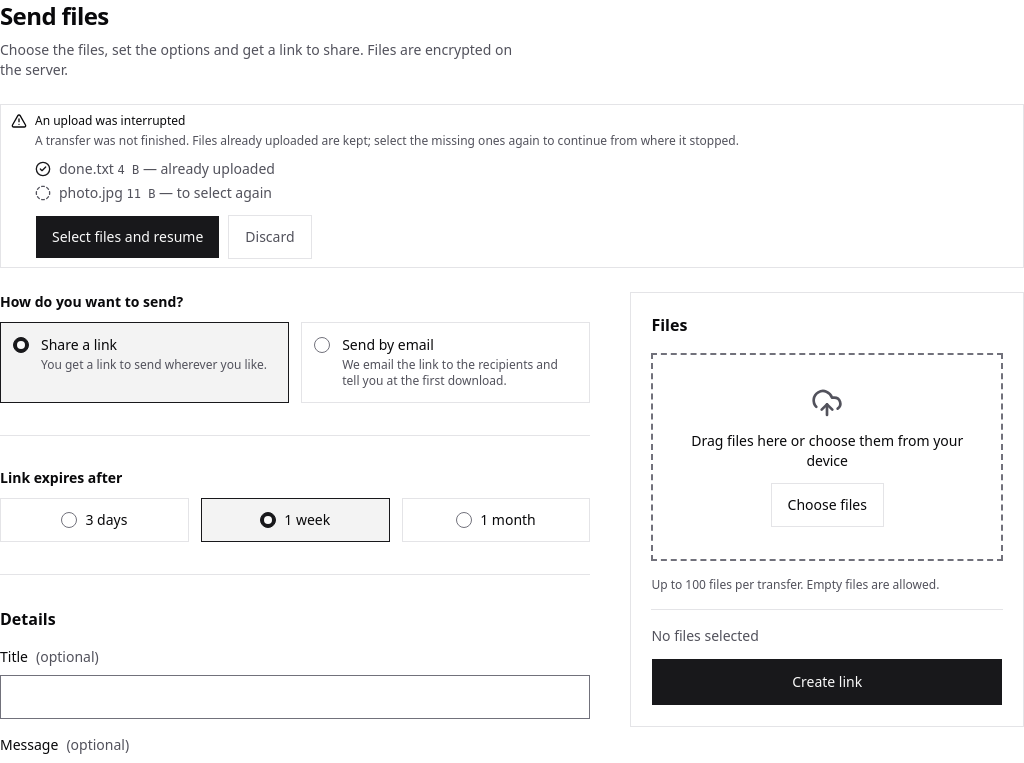
Scenario: NewTransferPage interrupted upload › discards the draft after confirmation
This screenshot has width=1024, height=763.
Expected: the button "Choose files" is shown, [770,482,884,526]
Expected: the text "An upload was interrupted" is shown, [35,112,185,129]
Click the button "Discard".
click(270, 236)  # box [228,214,312,258]
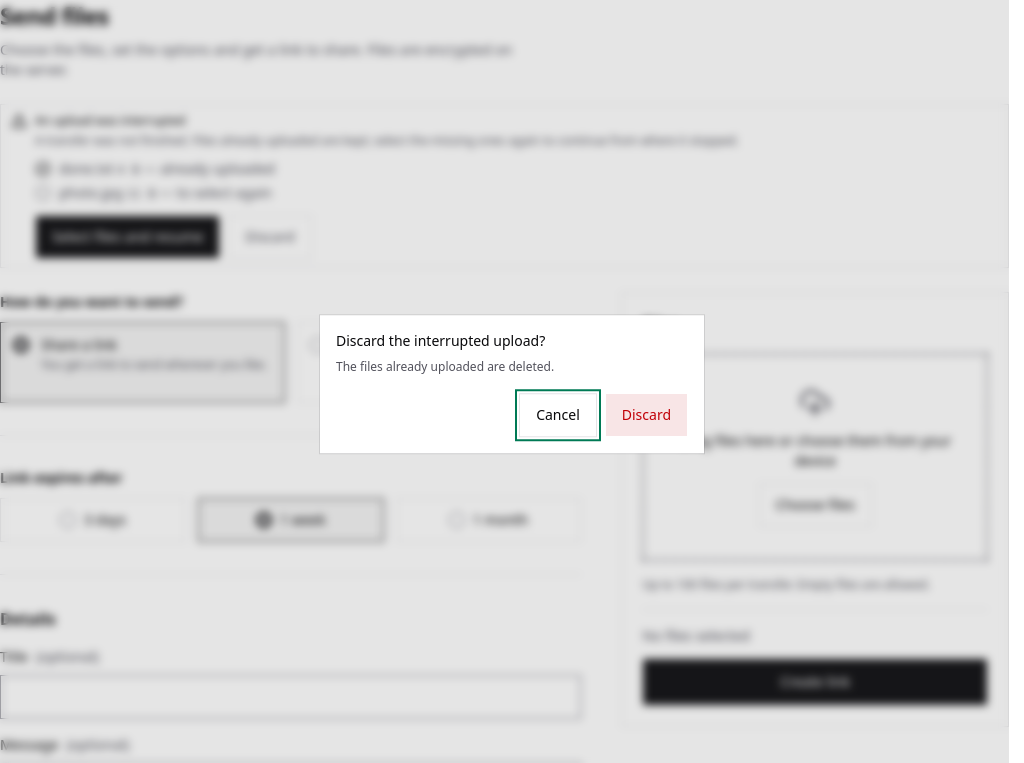
Click the button "Discard".
click(646, 415)  # box [605,393,688,437]
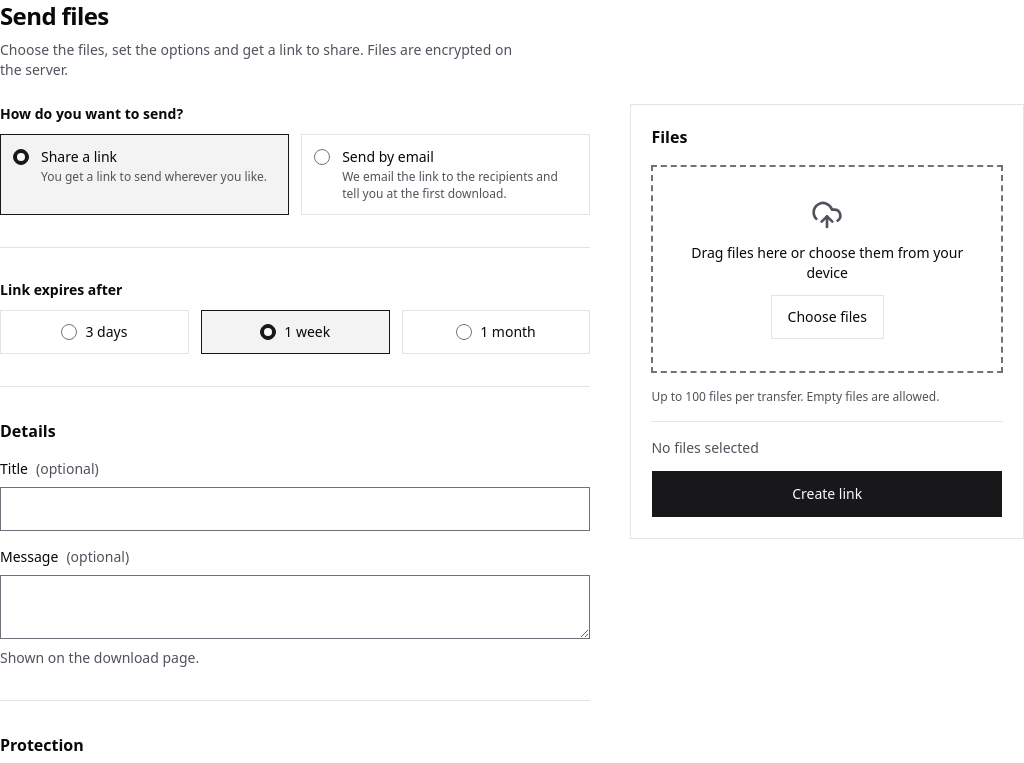
Expected: the text "An upload was interrupted" is gone
